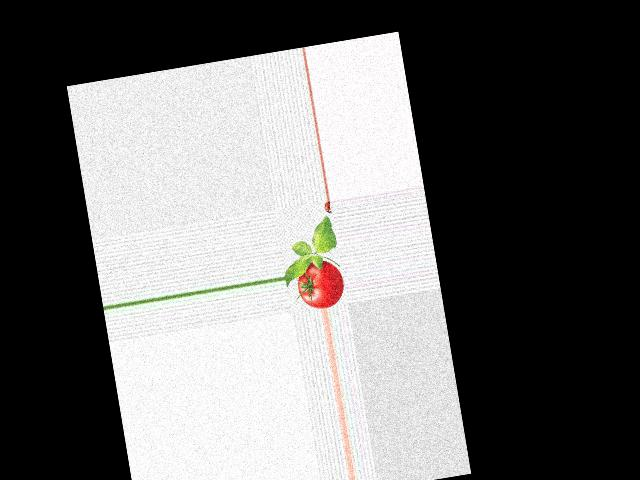tomato: (294, 257, 347, 311)
